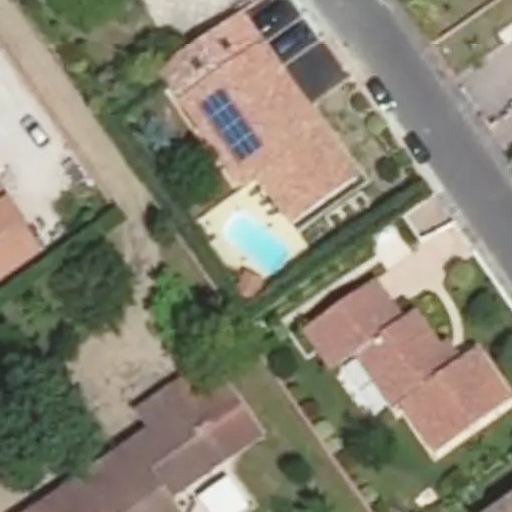pool: (219, 230, 292, 253)
